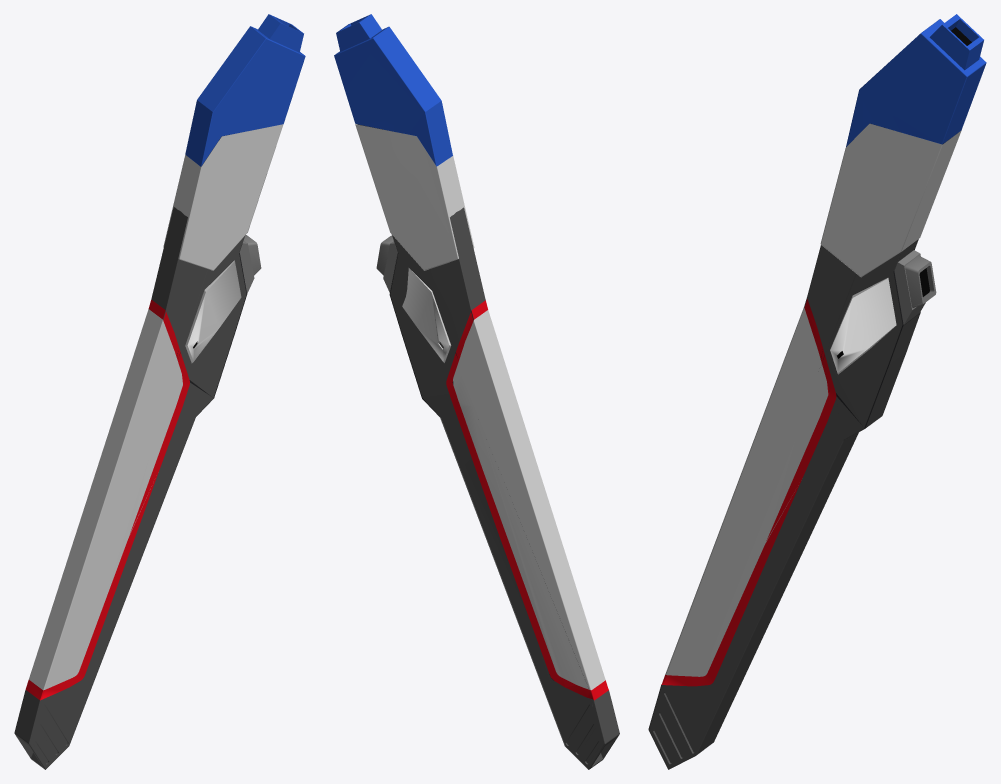
The model's file is leftGun.obj.
3 views of the same model, side by side, from view 1: azimuth 30°, elevation 25°; view 2: azimuth 150°, elevation 25°; view 3: azimuth 330°, elevation 25° (orthographic). The views are drawn at different scales.
Visible parts, largest first — view 1: freedom:ChafCaja1289freedom group, group freedom:ChafCaja1299, group freedom:Malla08, group freedom:Caja601; view 2: freedom:ChafCaja1289freedom group, group freedom:ChafCaja1299, group freedom:Malla08, group freedom:Caja600; view 3: freedom:ChafCaja1289freedom group, group freedom:Malla08, group freedom:ChafCaja1299, group freedom:Caja601, group freedom:ChafCaja1297, group freedom:ChafCaja1298.
Part boxes in pixels (x1,y1,x2,y2): freedom:ChafCaja1289freedom group: (14, 134, 247, 769); group freedom:ChafCaja1299: (185, 14, 305, 166); group freedom:Malla08: (163, 124, 283, 270); group freedom:Caja601: (185, 260, 241, 363); freedom:ChafCaja1289freedom group: (357, 124, 619, 769); group freedom:ChafCaja1299: (334, 14, 452, 166); group freedom:Malla08: (355, 124, 474, 270); group freedom:Caja600: (402, 268, 451, 362); freedom:ChafCaja1289freedom group: (648, 124, 957, 769); group freedom:Malla08: (820, 123, 961, 277); group freedom:ChafCaja1299: (846, 14, 986, 146); group freedom:Caja601: (830, 278, 896, 374); group freedom:ChafCaja1297: (905, 256, 936, 307); group freedom:ChafCaja1298: (894, 250, 925, 324).
Size of the model in its own units: 45.71 by 110 by 5.12.
